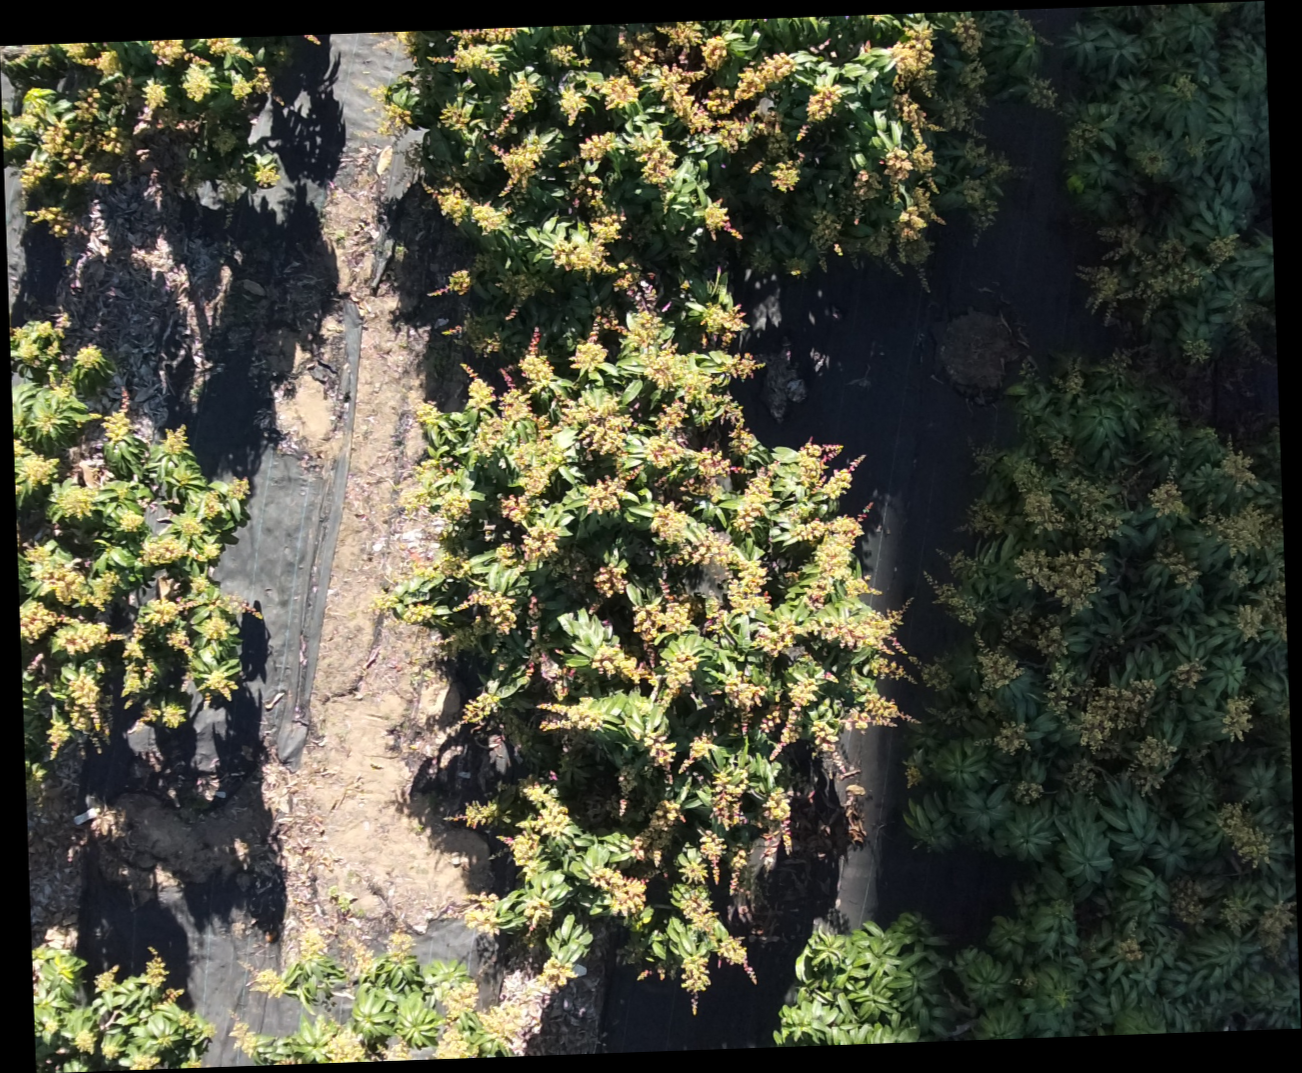flowers: (465, 337, 650, 568), (616, 307, 755, 459), (19, 542, 143, 703), (652, 54, 796, 153), (2, 85, 128, 190), (1077, 222, 1203, 321), (650, 501, 763, 600), (132, 568, 261, 641), (1012, 456, 1120, 543), (229, 1014, 411, 1062), (429, 968, 523, 1057), (672, 882, 753, 982), (10, 319, 112, 397), (499, 782, 573, 876), (800, 515, 875, 607), (592, 643, 699, 704), (641, 430, 742, 495), (25, 541, 117, 610), (753, 611, 900, 654), (1067, 680, 1157, 751), (131, 231, 195, 328), (131, 64, 213, 136), (1017, 547, 1105, 613), (766, 658, 822, 757), (19, 599, 115, 655), (704, 111, 789, 171), (46, 665, 102, 756), (561, 131, 617, 220), (552, 213, 625, 275), (139, 513, 224, 564), (427, 182, 508, 234), (1201, 503, 1283, 553), (430, 28, 519, 74), (150, 38, 213, 102), (796, 440, 863, 499), (1215, 802, 1270, 867), (569, 307, 623, 373), (632, 799, 685, 866), (1002, 605, 1067, 658), (890, 23, 934, 94), (1235, 579, 1285, 641), (700, 273, 744, 343), (732, 51, 796, 100), (487, 75, 540, 133), (493, 134, 544, 193), (590, 865, 645, 917), (632, 597, 693, 643), (1128, 736, 1177, 793), (248, 164, 295, 223), (794, 84, 843, 140), (722, 671, 766, 733), (461, 586, 516, 633), (927, 574, 975, 625), (441, 313, 500, 355), (732, 469, 771, 532), (845, 690, 911, 727), (710, 764, 748, 827), (13, 438, 58, 490), (1153, 538, 1199, 587), (537, 696, 603, 730), (364, 85, 410, 135), (633, 134, 675, 187), (882, 141, 934, 183), (954, 19, 985, 88), (61, 41, 120, 77), (962, 177, 997, 238), (1257, 901, 1296, 954), (201, 263, 232, 328), (518, 326, 552, 385), (893, 92, 940, 133), (680, 953, 710, 1014), (761, 787, 790, 850), (976, 648, 1021, 688), (586, 74, 637, 108), (613, 269, 656, 309), (49, 483, 96, 519), (659, 19, 720, 47), (1169, 877, 1204, 925), (939, 93, 981, 132), (462, 361, 495, 409), (497, 271, 548, 303), (99, 392, 131, 442), (592, 553, 627, 597), (414, 551, 471, 578), (1097, 223, 1140, 259), (703, 199, 740, 239), (1220, 446, 1255, 487), (1033, 615, 1067, 658), (29, 400, 61, 447), (1221, 696, 1253, 740), (967, 496, 1005, 534), (1148, 479, 1187, 516), (438, 100, 476, 136), (810, 209, 841, 253), (26, 206, 71, 236), (697, 830, 725, 880), (539, 651, 567, 700), (678, 733, 714, 771), (448, 802, 499, 827), (461, 689, 499, 724), (1063, 756, 1098, 794), (346, 936, 374, 982), (536, 955, 575, 989), (1065, 119, 1099, 158), (230, 66, 270, 98), (951, 15, 981, 57), (197, 668, 239, 699), (426, 268, 471, 295), (139, 702, 186, 728), (643, 733, 675, 771), (437, 489, 470, 522), (993, 721, 1028, 753), (204, 36, 251, 59), (727, 846, 750, 892), (249, 968, 287, 997), (1220, 896, 1251, 930), (1115, 920, 1142, 961), (228, 1018, 255, 1058), (1026, 75, 1057, 110), (1206, 234, 1238, 266), (1169, 659, 1205, 688), (522, 895, 552, 930), (1054, 358, 1084, 394), (920, 659, 952, 691), (196, 612, 232, 639), (700, 34, 727, 70), (769, 159, 799, 191), (386, 929, 415, 963), (74, 87, 101, 122), (218, 168, 245, 202), (144, 946, 167, 988), (548, 43, 589, 66), (868, 655, 906, 679), (1133, 148, 1165, 176), (142, 168, 162, 210), (617, 765, 635, 814), (853, 168, 880, 199), (1180, 337, 1212, 363), (1047, 436, 1074, 465), (161, 425, 188, 453), (948, 549, 976, 577), (1012, 779, 1042, 803), (401, 602, 436, 623), (74, 344, 105, 366), (165, 630, 190, 655), (94, 965, 119, 991), (389, 30, 418, 52), (74, 1028, 96, 1054), (118, 509, 144, 531), (527, 595, 540, 638), (202, 490, 222, 518), (404, 137, 422, 169), (226, 476, 250, 499), (1184, 137, 1207, 160), (1185, 743, 1209, 764), (904, 761, 922, 787), (1228, 565, 1249, 587), (473, 252, 495, 273), (128, 1054, 159, 1068), (1203, 1, 1233, 15), (976, 691, 996, 713), (162, 986, 184, 1002), (302, 34, 321, 45), (1279, 699, 1289, 721), (863, 13, 883, 22)
